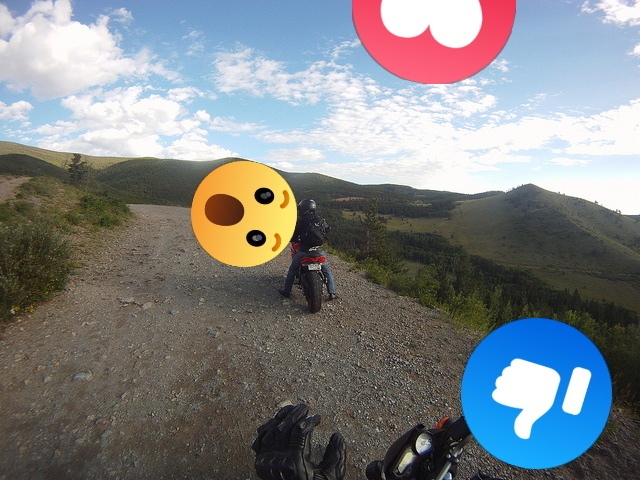like: (461, 318, 612, 469)
love: (352, 0, 516, 84)
wow: (191, 161, 297, 267)
